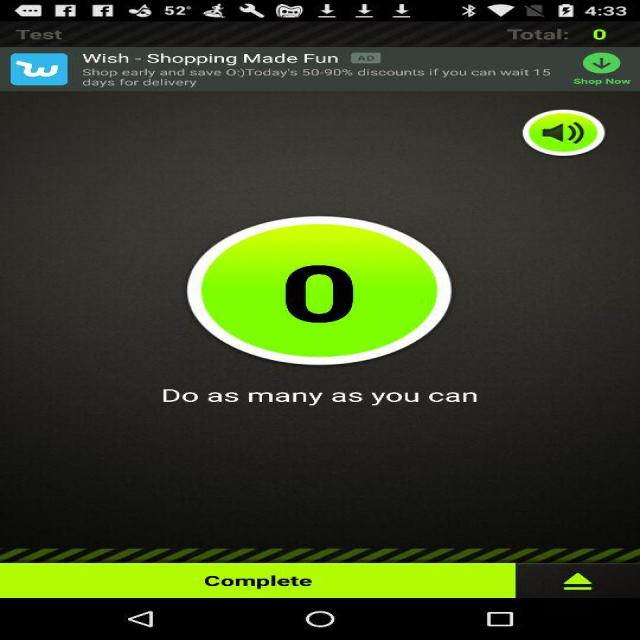button: (44, 565, 524, 599), (136, 374, 510, 406), (525, 110, 621, 158)
icon: (515, 566, 640, 605), (517, 113, 607, 151), (565, 53, 640, 92), (0, 53, 68, 92)
image: (5, 94, 633, 550), (173, 210, 468, 364)
text: (73, 52, 560, 94), (151, 375, 513, 414), (193, 569, 350, 595)
